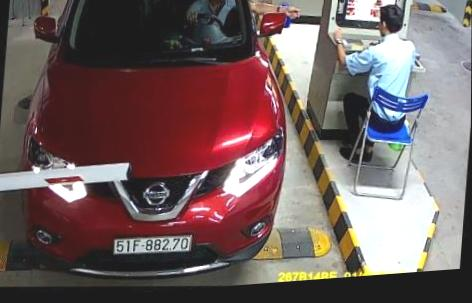License_Plate: (109, 222, 206, 262)
